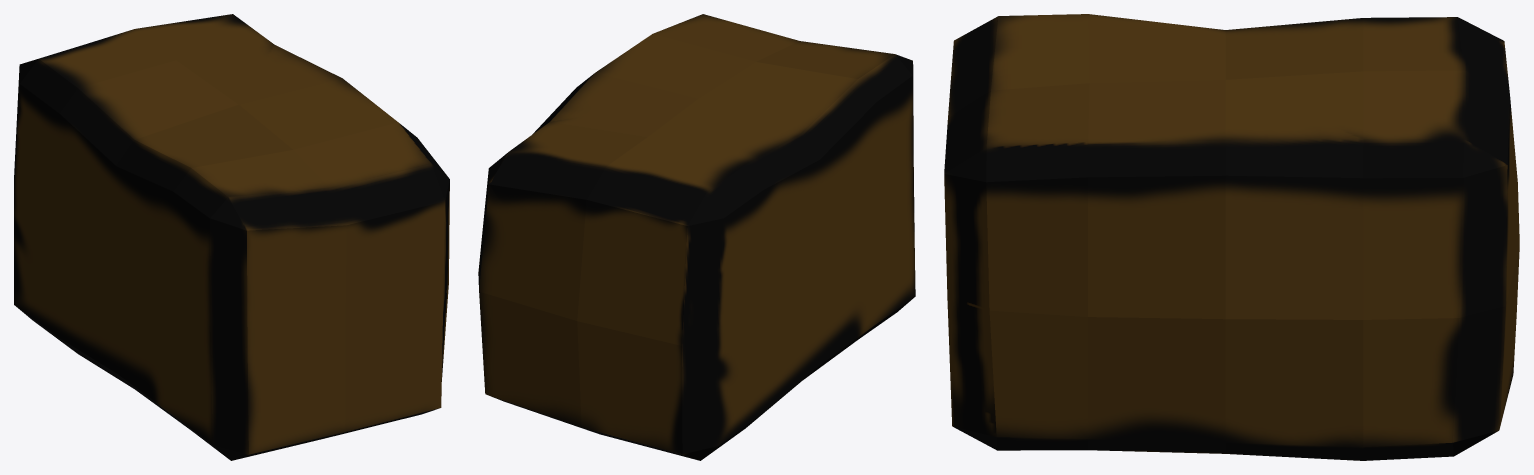
Rendered from brick.fbx.
3 views of the same model, side by side, from view 1: azimuth 30°, elevation 25°; view 2: azimuth 150°, elevation 25°; view 3: azimuth 270°, elevation 25° (orthographic). The views are drawn at different scales.
Parts seen in each view (by area): view 1: Cube; view 2: Cube; view 3: Cube.
Boxes of the visible parts, left/top/right/bottom form: Cube: left=14, top=14, right=449, bottom=460; Cube: left=478, top=14, right=915, bottom=460; Cube: left=944, top=14, right=1519, bottom=460.
Size of the model in its own units: 128 by 132 by 209.
1 material, 1 textured.
